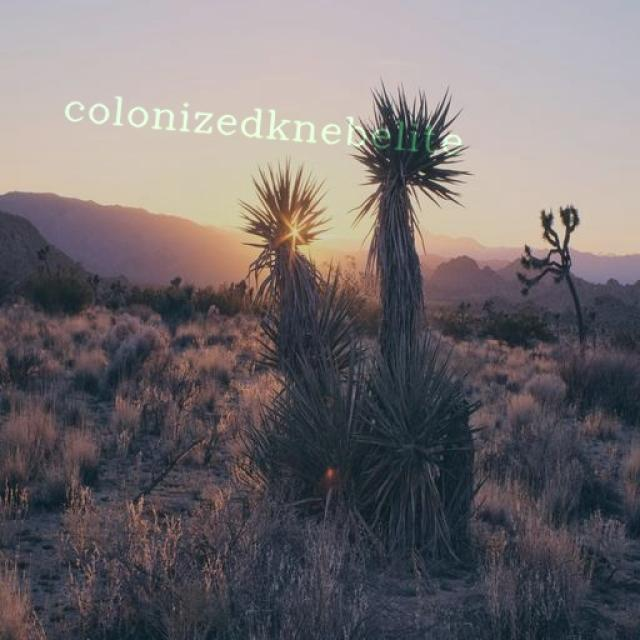watermark: (52, 90, 490, 161)
